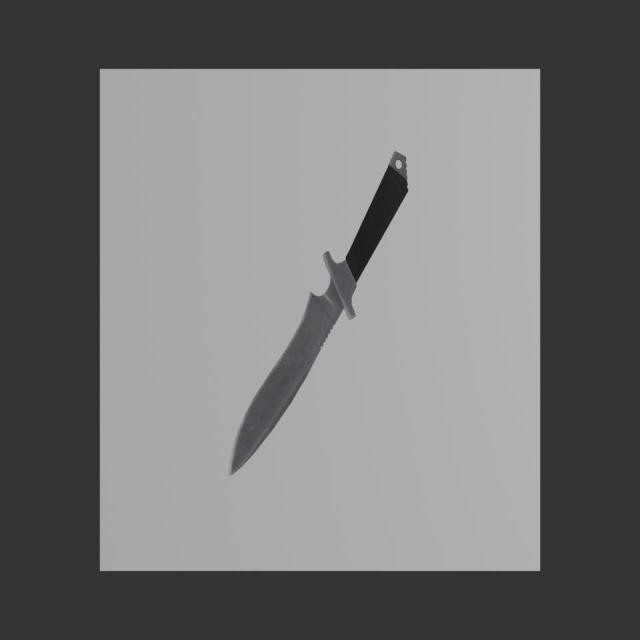knife: (346, 151, 408, 283)
